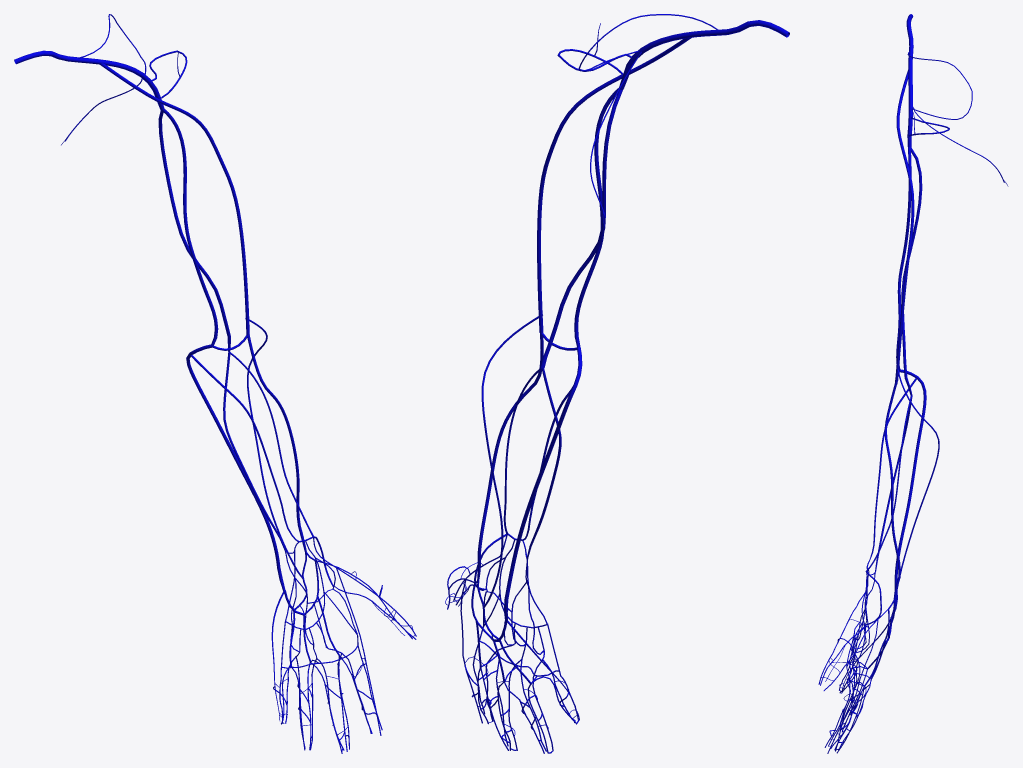
Rendered from Upper limb Veins L.fbx.
3 renders of one model, left to right at view 1: azimuth 30°, elevation 25°; view 2: azimuth 150°, elevation 25°; view 3: azimuth 270°, elevation 25°, orthographic. The views are drawn at different scales.
Visible parts, largest first — view 1: Cephalic_L, Basilic_L, Dorsal_digital_L, Palmar_digital_L, Brachial_L, Axillary_L; view 2: Cephalic_L, Basilic_L, Dorsal_digital_L, Palmar_digital_L, Brachial_L, Axillary_L, Accessory_cephalic_L, Ulnar_L, Radial_L; view 3: Cephalic_L, Basilic_L, Dorsal_digital_L, Palmar_digital_L, Brachial_L, Axillary_L, Radial_L, Accessory_cephalic_L, Median_antebrachial_L, Ulnar_L.
Boxes of the visible parts, x1=… form: Cephalic_L: x1=100, y1=63, x2=316, y2=613; Basilic_L: x1=161, y1=109, x2=285, y2=591; Dorsal_digital_L: x1=271, y1=537, x2=416, y2=751; Palmar_digital_L: x1=277, y1=586, x2=414, y2=753; Brachial_L: x1=158, y1=111, x2=230, y2=353; Axillary_L: x1=51, y1=51, x2=164, y2=111; Cephalic_L: x1=474, y1=37, x2=691, y2=640; Basilic_L: x1=504, y1=88, x2=618, y2=622; Dorsal_digital_L: x1=445, y1=535, x2=578, y2=753; Palmar_digital_L: x1=455, y1=583, x2=579, y2=752; Brachial_L: x1=541, y1=89, x2=622, y2=368; Axillary_L: x1=619, y1=21, x2=749, y2=89; Accessory_cephalic_L: x1=481, y1=314, x2=542, y2=607; Ulnar_L: x1=525, y1=368, x2=561, y2=558; Radial_L: x1=474, y1=368, x2=541, y2=590; Cephalic_L: x1=884, y1=70, x2=914, y2=643; Basilic_L: x1=891, y1=147, x2=926, y2=617; Dorsal_digital_L: x1=818, y1=572, x2=890, y2=753; Palmar_digital_L: x1=819, y1=622, x2=866, y2=751; Brachial_L: x1=901, y1=147, x2=922, y2=396; Axillary_L: x1=907, y1=29, x2=913, y2=147; Radial_L: x1=865, y1=395, x2=911, y2=625; Accessory_cephalic_L: x1=892, y1=369, x2=939, y2=618; Median_antebrachial_L: x1=866, y1=378, x2=916, y2=572; Ulnar_L: x1=870, y1=395, x2=912, y2=575.
Size of the model in its own units: 37.52 by 75.11 by 20.78.
